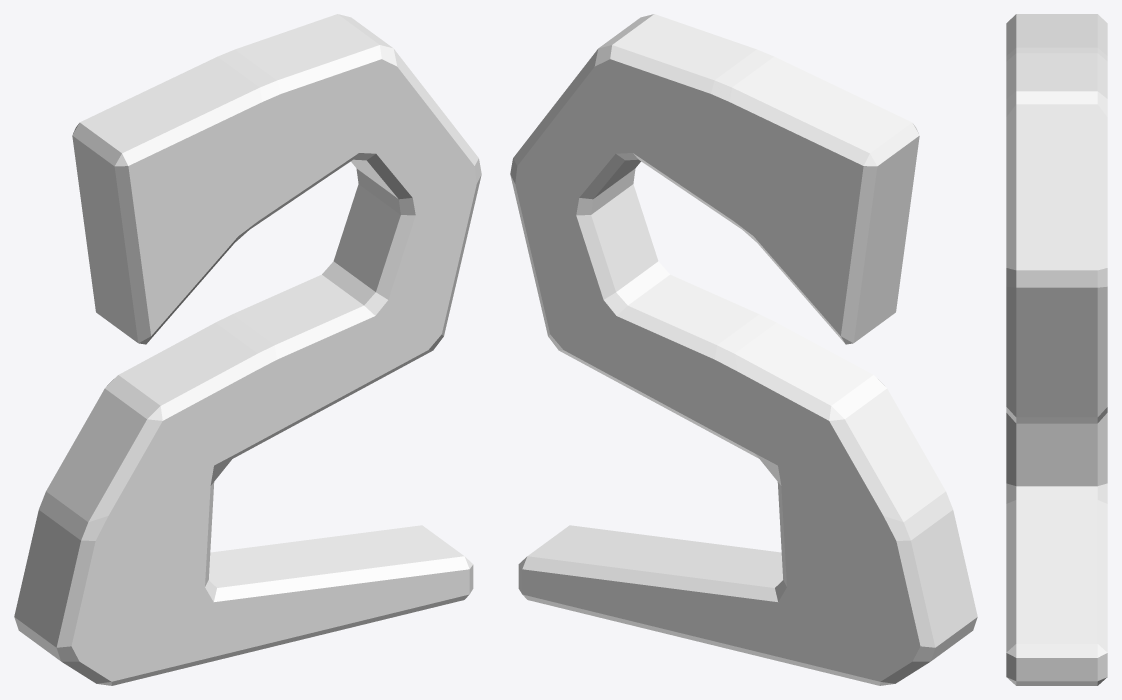
The model's file is two.glb.
The picture shows the model from 3 angles, left to right: view 1: azimuth 30°, elevation 25°; view 2: azimuth 150°, elevation 25°; view 3: azimuth 270°, elevation 25°; orthographic projection. The views are drawn at different scales.
Visible parts, largest first — view 1: Two; view 2: Two; view 3: Two.
Part boxes in pixels (x1,y1,x2,y2): Two: [14, 14, 481, 685]; Two: [510, 14, 977, 685]; Two: [1006, 14, 1107, 685].
Size of the model in its own units: 0.16 by 0.207 by 0.0343.
1 material, 1 textured.
